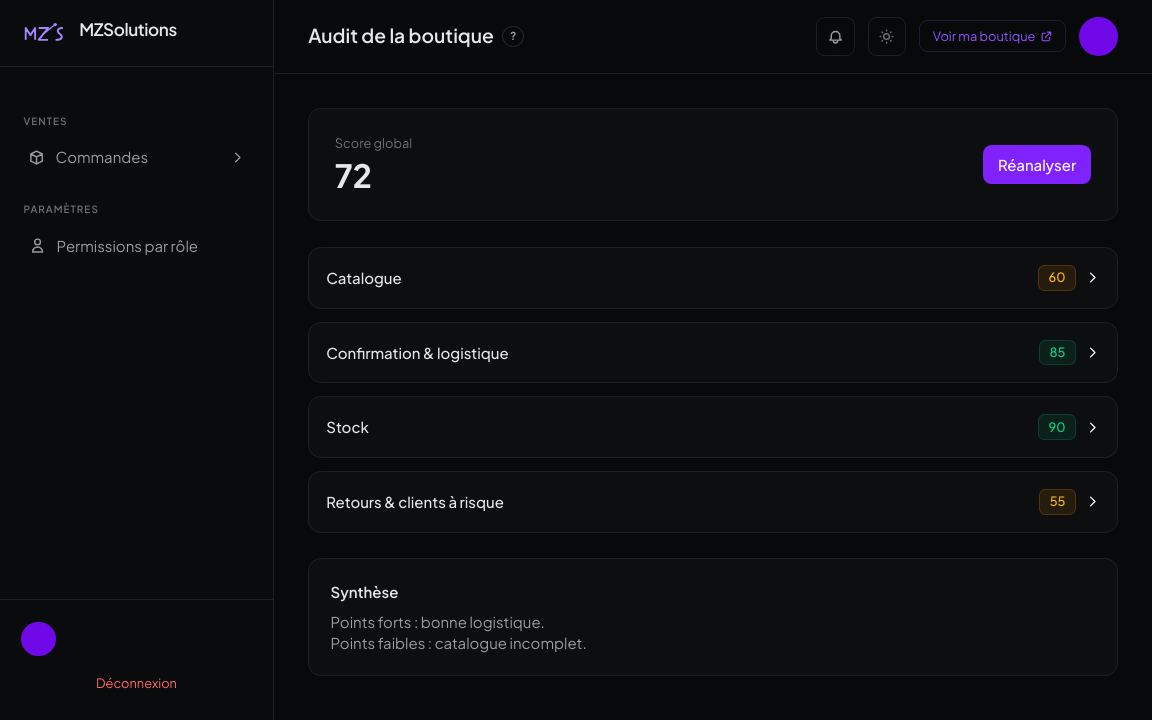
Scenario: StoreAuditPage › affiche le client à risque non traité dans la section Retours & clients à risque dépliée
This screenshot has width=1152, height=720.
Expected: the text "72" is shown, [335,155,372,195]
Step 1. Click the text "Retours & clients à risque" → point(415, 502), box [326,491,504,512]
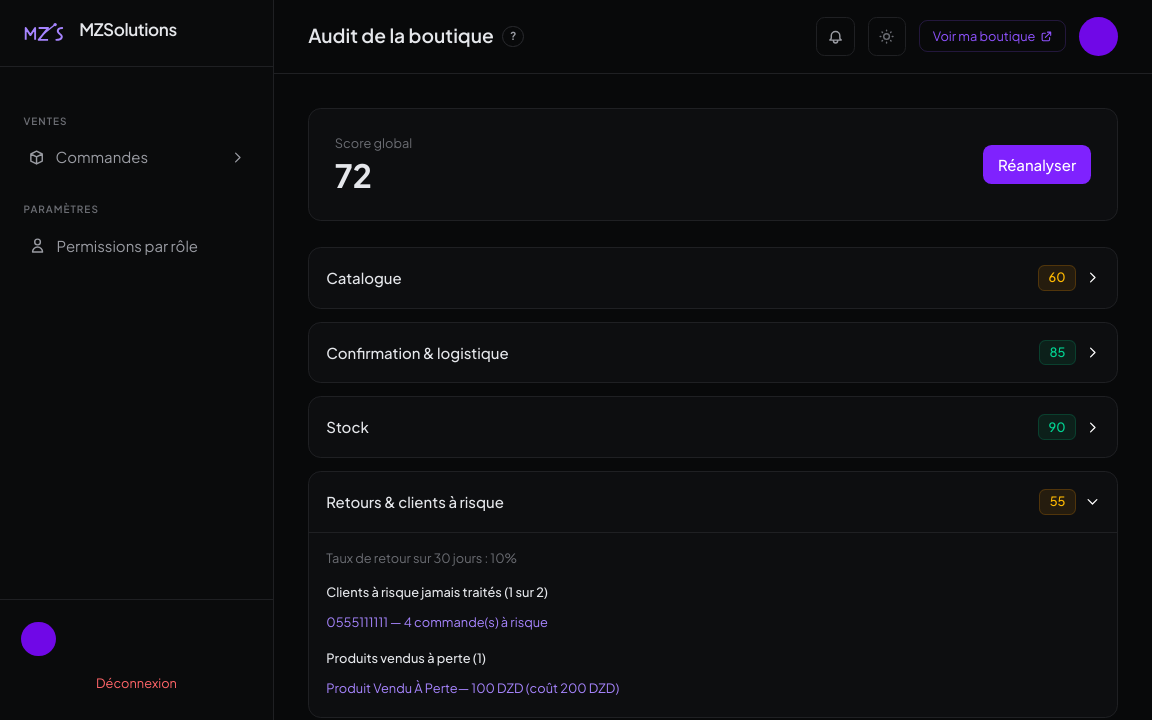
Expected: the link "0555111111 — 4 commande(s) à risque" is shown, [326,614,548,630]
